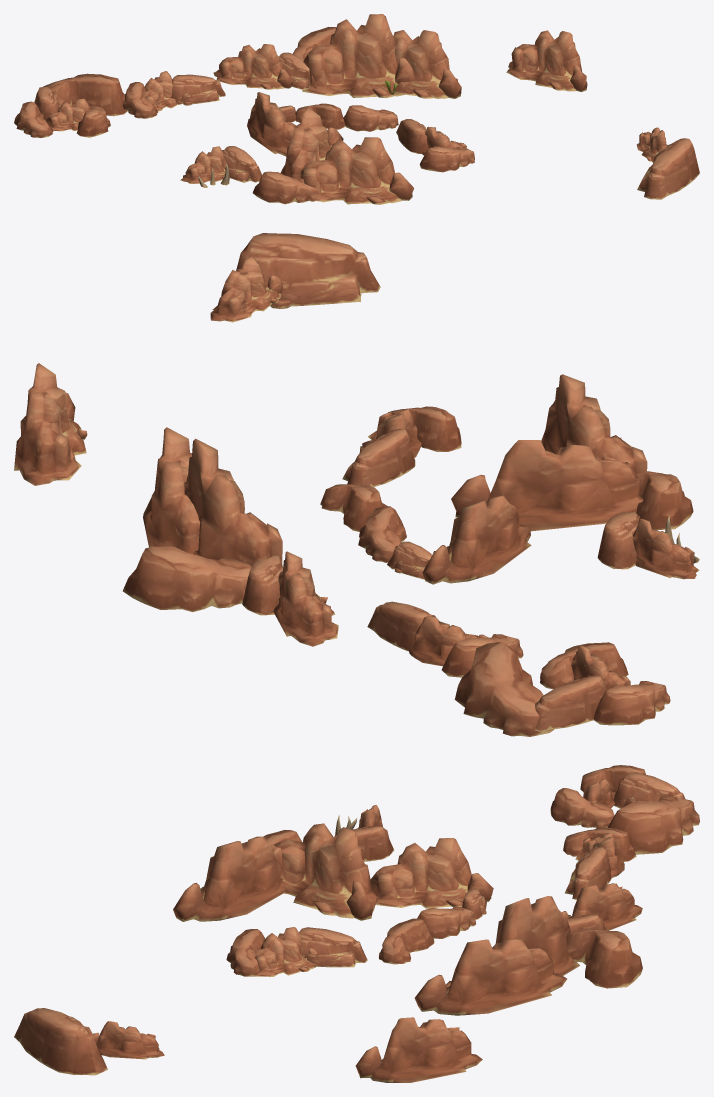
The model's file is rock_red10.fbx.
The picture shows the model from 3 angles, top to bottom: view 1: azimuth 30°, elevation 25°; view 2: azimuth 150°, elevation 25°; view 3: azimuth 270°, elevation 25°; orthographic projection. The views are drawn at different scales.
Parts seen in each view (by area): view 1: rock_red10; view 2: rock_red10; view 3: rock_red10.
Part boxes in pixels (x1,y1,x2,y2): rock_red10: (14,14,699,204); rock_red10: (14,233,699,736); rock_red10: (14,765,699,1082).
Bounding box in the file's own units: 12529 × 1715 × 12037.
1 material, 1 textured.
